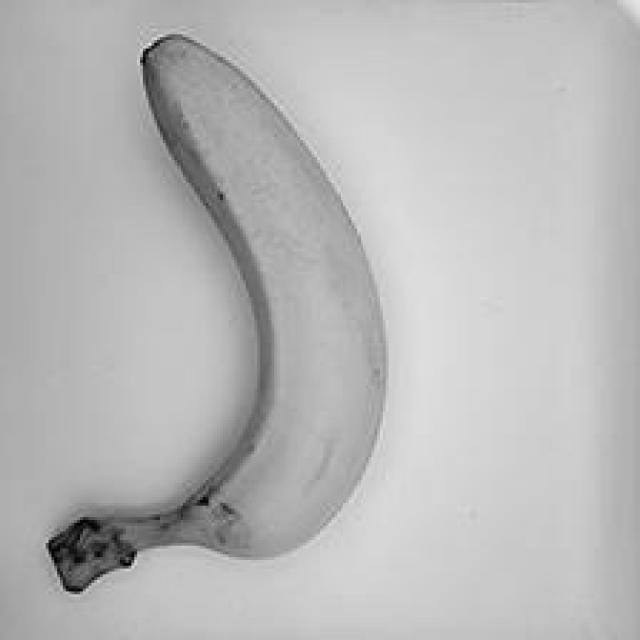Ripe: (11, 21, 426, 607)
